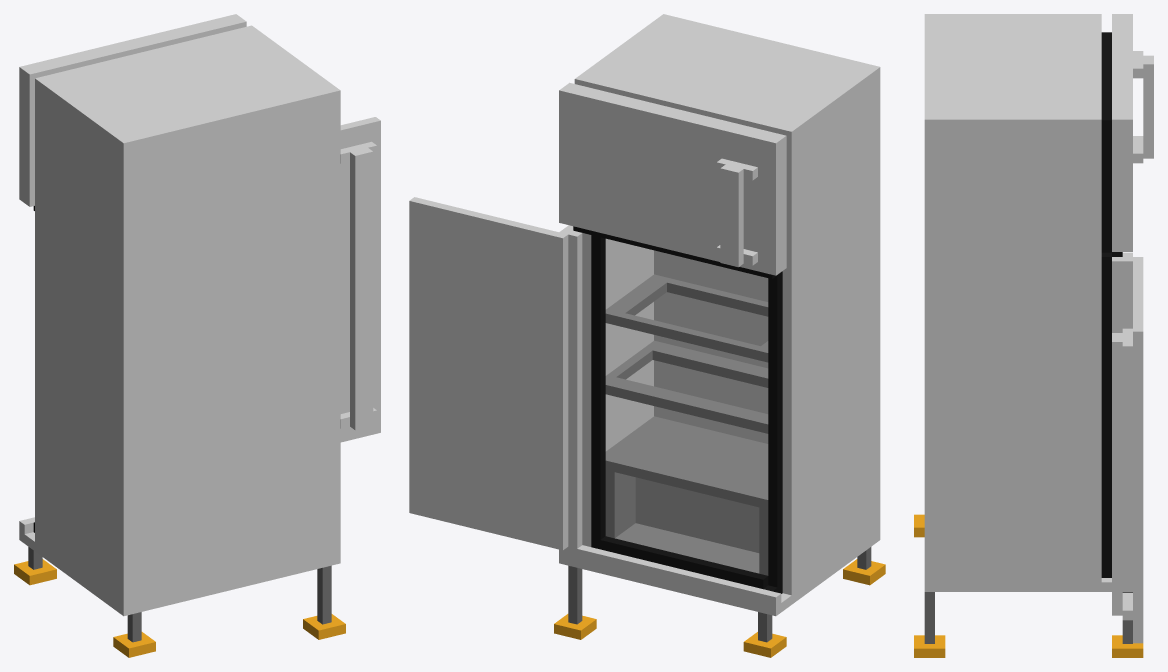
Rendered from OpenFridge.obj.
3 renders of one model, left to right at view 1: azimuth 30°, elevation 25°; view 2: azimuth 150°, elevation 25°; view 3: azimuth 270°, elevation 25°, orthographic.
Bounding box in the file's own units: 40 × 57 × 23.
Materials: 1 (1 with a texture image).
